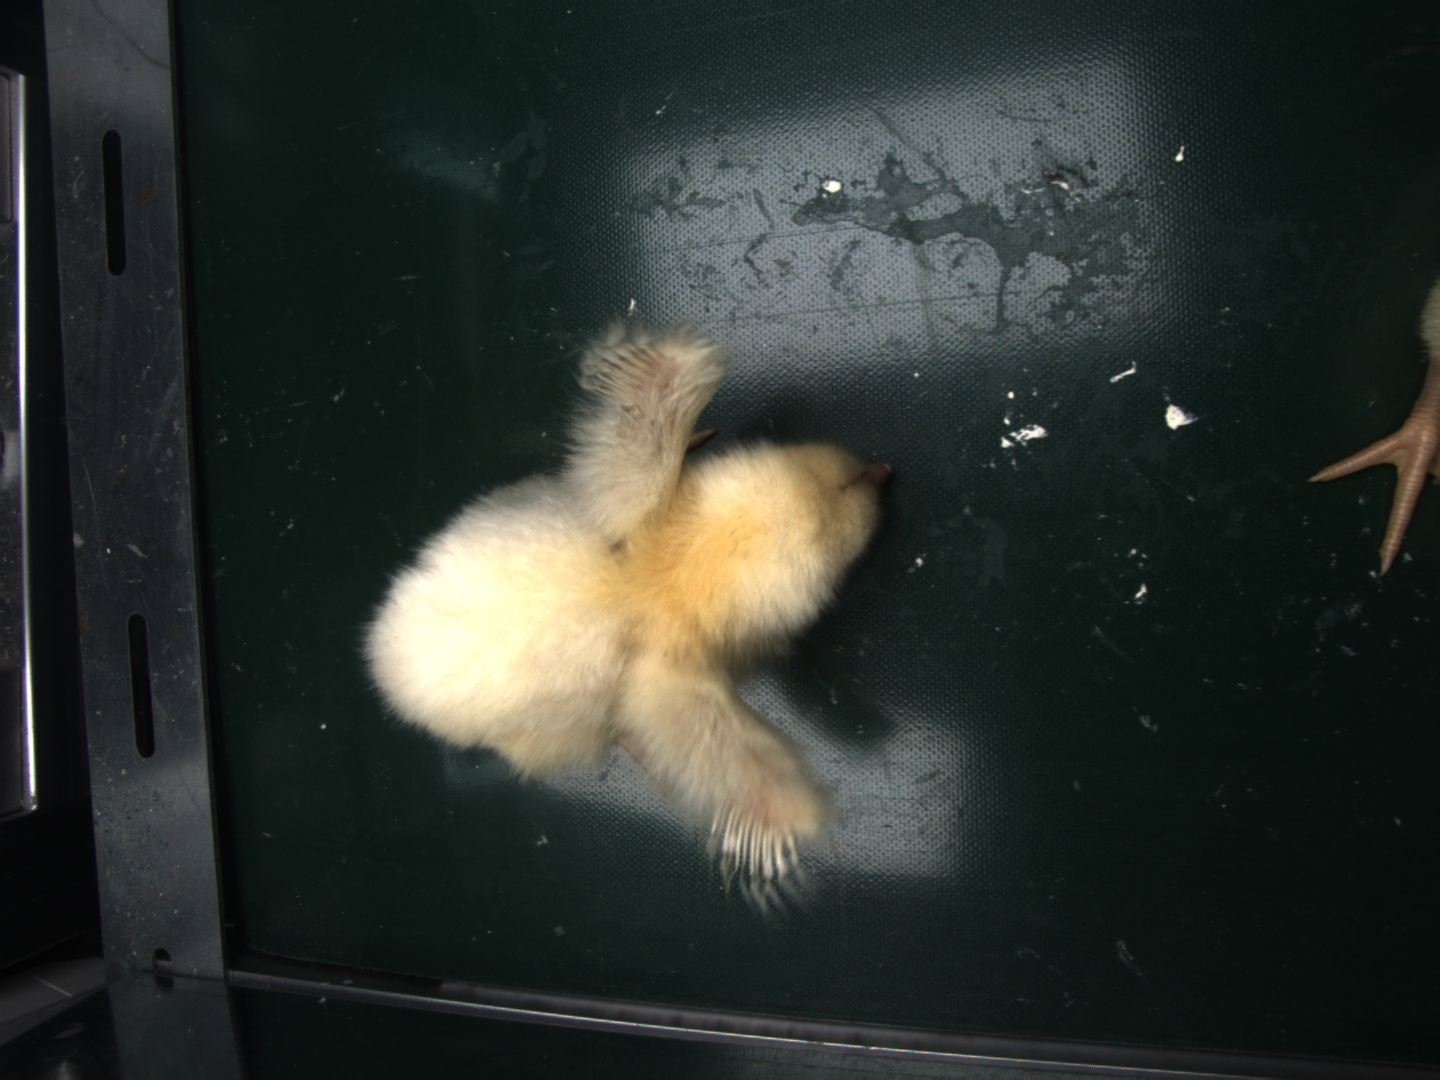male: (717, 804, 795, 877)
